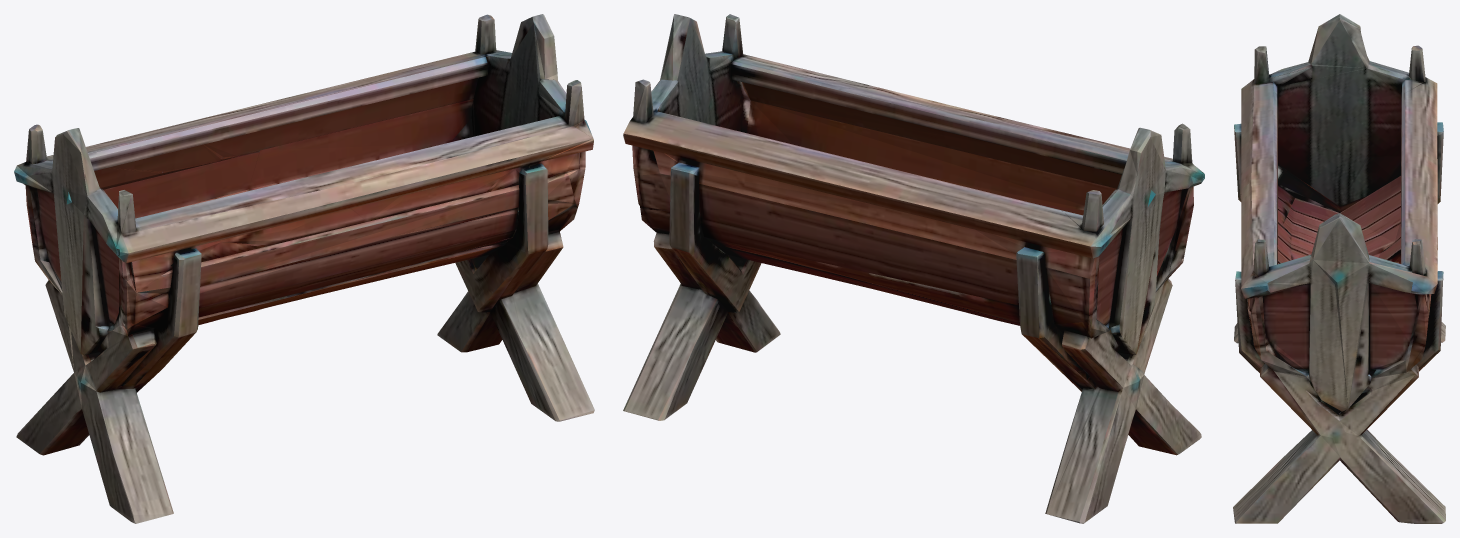
Rendered from village_water_trough_01.glb.
The picture shows the model from 3 angles, left to right: view 1: azimuth 30°, elevation 25°; view 2: azimuth 150°, elevation 25°; view 3: azimuth 270°, elevation 25°; orthographic projection. The views are drawn at different scales.
Parts seen in each view (by area): view 1: geometry_0; view 2: geometry_0; view 3: geometry_0.
Boxes of the visible parts, <box> form: geometry_0: <box>14,14,594,523</box>; geometry_0: <box>623,14,1204,523</box>; geometry_0: <box>1233,14,1445,523</box>.
Size of the model in its own units: 0.9977 by 0.7014 by 0.4365.
1 material, 1 textured.
